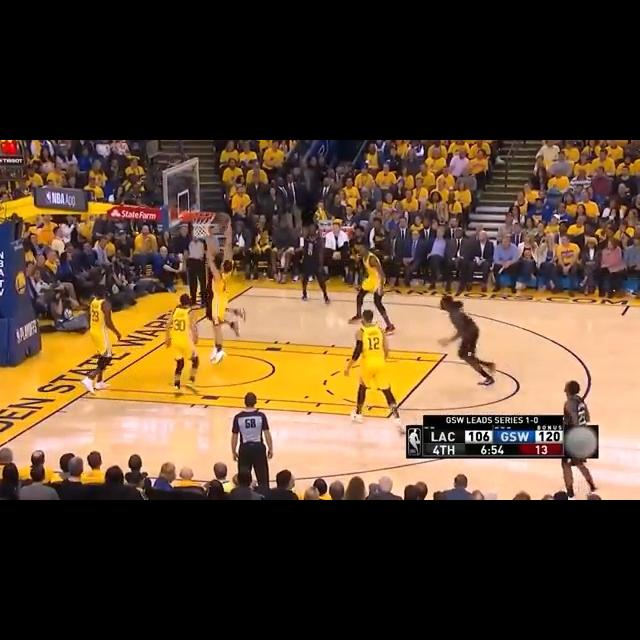basketball: (218, 213, 231, 226)
hoop: (180, 208, 216, 238)
